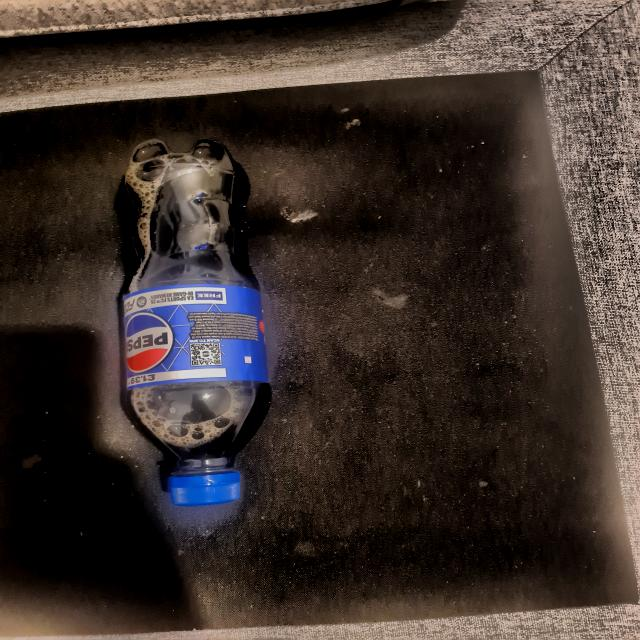pepsi-bottle: (117, 140, 260, 512)
